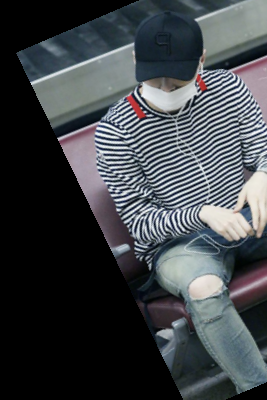mask_weared_incorrect: (124, 5, 220, 114)
